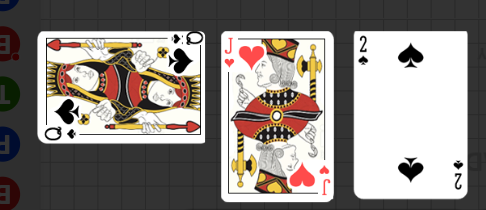2S: (452, 158, 465, 192)
9S: (43, 126, 80, 143)
JH: (224, 37, 237, 70)
